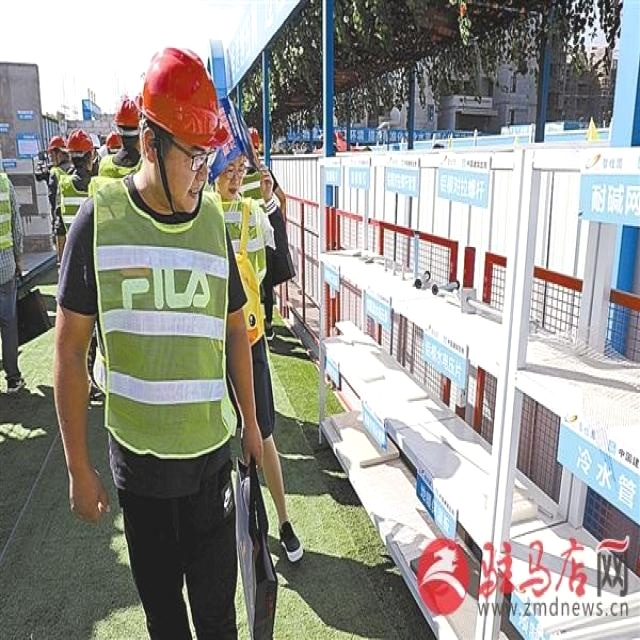Con_Casco: (136, 48, 229, 200)
Con_Chaleco: (89, 176, 235, 456)
